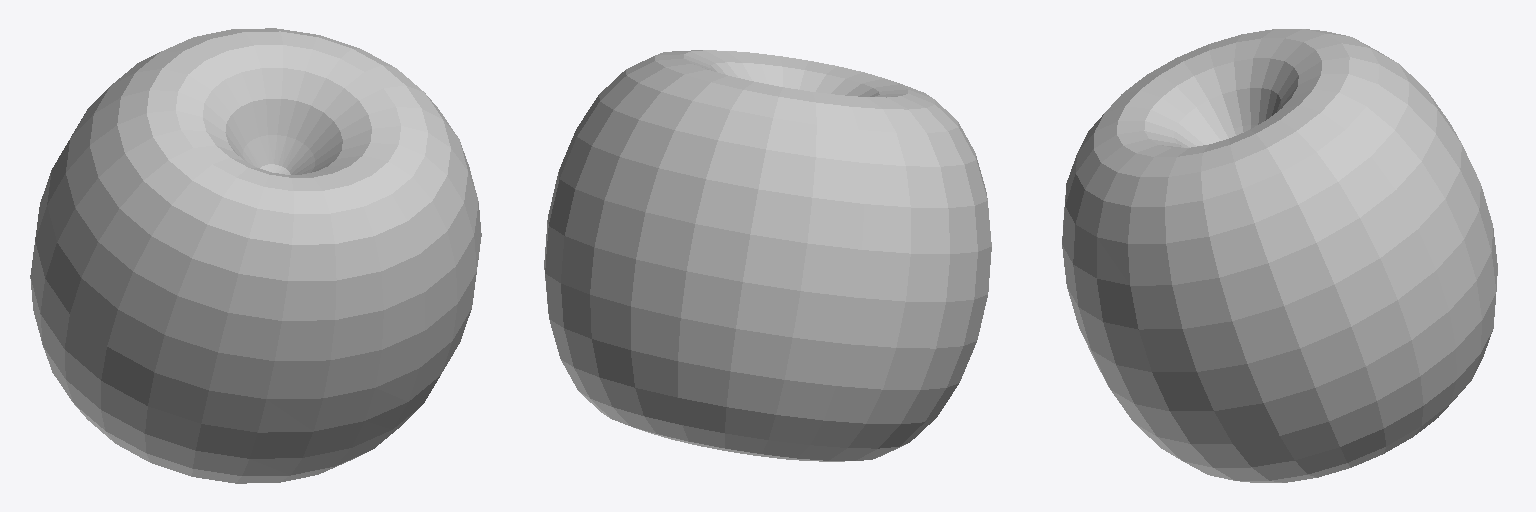
The model's file is Anthro butthole.obj.
3 views of the same model, side by side, from view 1: azimuth 30°, elevation 25°; view 2: azimuth 150°, elevation 25°; view 3: azimuth 270°, elevation 25° (orthographic).
Visible parts, largest first — view 1: vag_base.002_Mesh1_Component_4_1_Component_6_1_Model.002; view 2: vag_base.002_Mesh1_Component_4_1_Component_6_1_Model.002; view 3: vag_base.002_Mesh1_Component_4_1_Component_6_1_Model.002.
Part boxes in pixels (bbox=[...]): vag_base.002_Mesh1_Component_4_1_Component_6_1_Model.002: bbox=[30, 28, 481, 483]; vag_base.002_Mesh1_Component_4_1_Component_6_1_Model.002: bbox=[544, 50, 991, 461]; vag_base.002_Mesh1_Component_4_1_Component_6_1_Model.002: bbox=[1062, 29, 1497, 482].
Size of the model in its own units: 1.07 by 1.01 by 1.03.